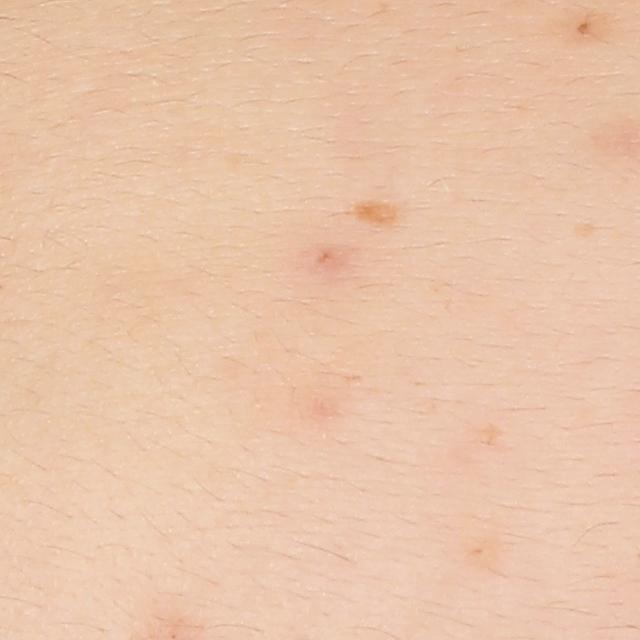melasma: (349, 199, 398, 224)
